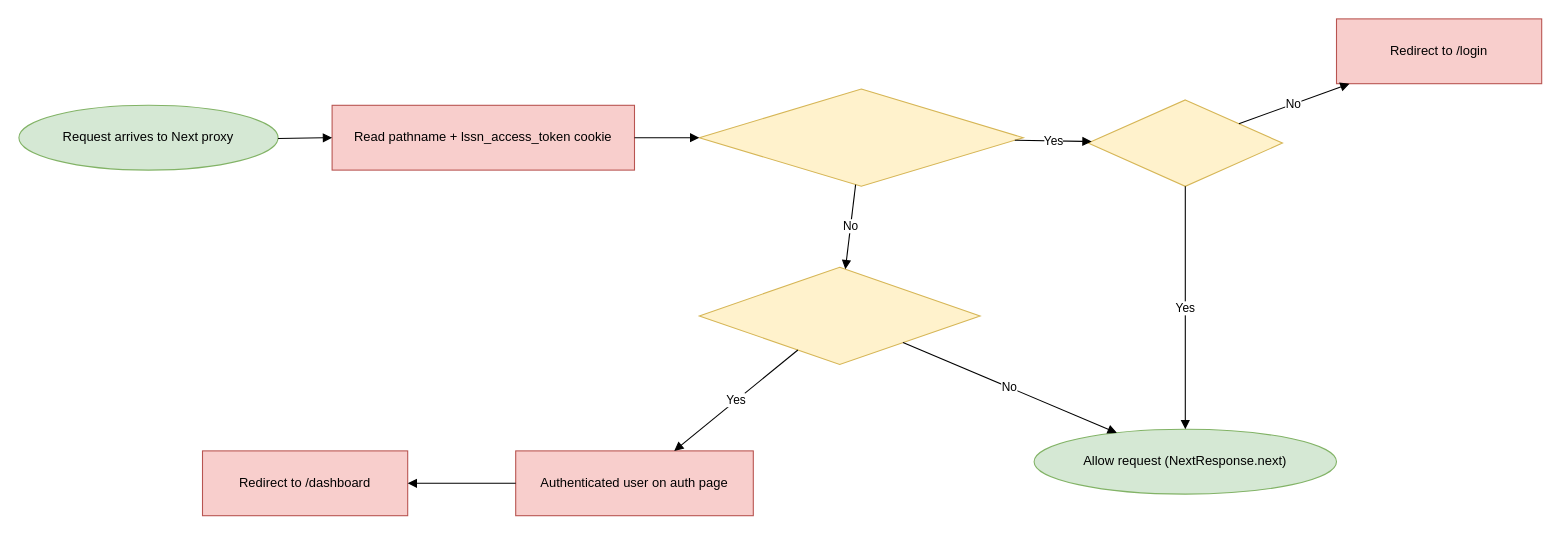
This 1561x535 diagram has some shape labels left out. The centre of each missing label's shape, as x and y in pixels:
"Authenticated?" belongs at (1184,142).
"Route is /login or /register?" belongs at (839,315).
"Route is protected? /, /dashboard, /create, /lssns, /statistics" belongs at (860,137).
